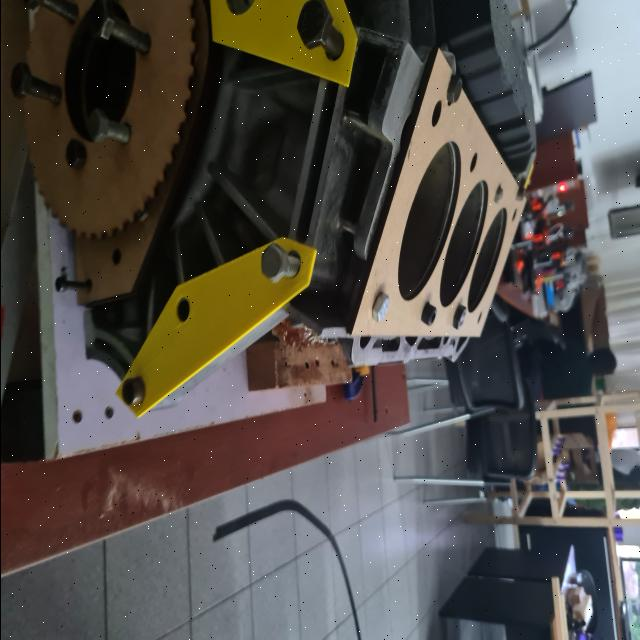vista1: (350, 50, 527, 338)
